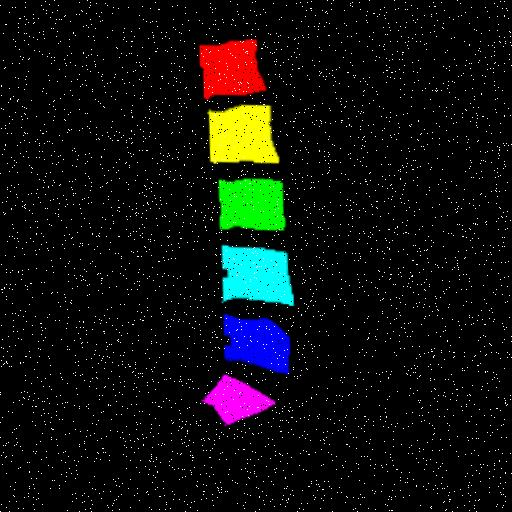L1: (198, 40, 264, 98)
L2: (207, 106, 276, 164)
L3: (216, 179, 282, 231)
L4: (218, 245, 289, 305)
L5: (219, 315, 285, 375)
S1: (198, 375, 268, 425)
